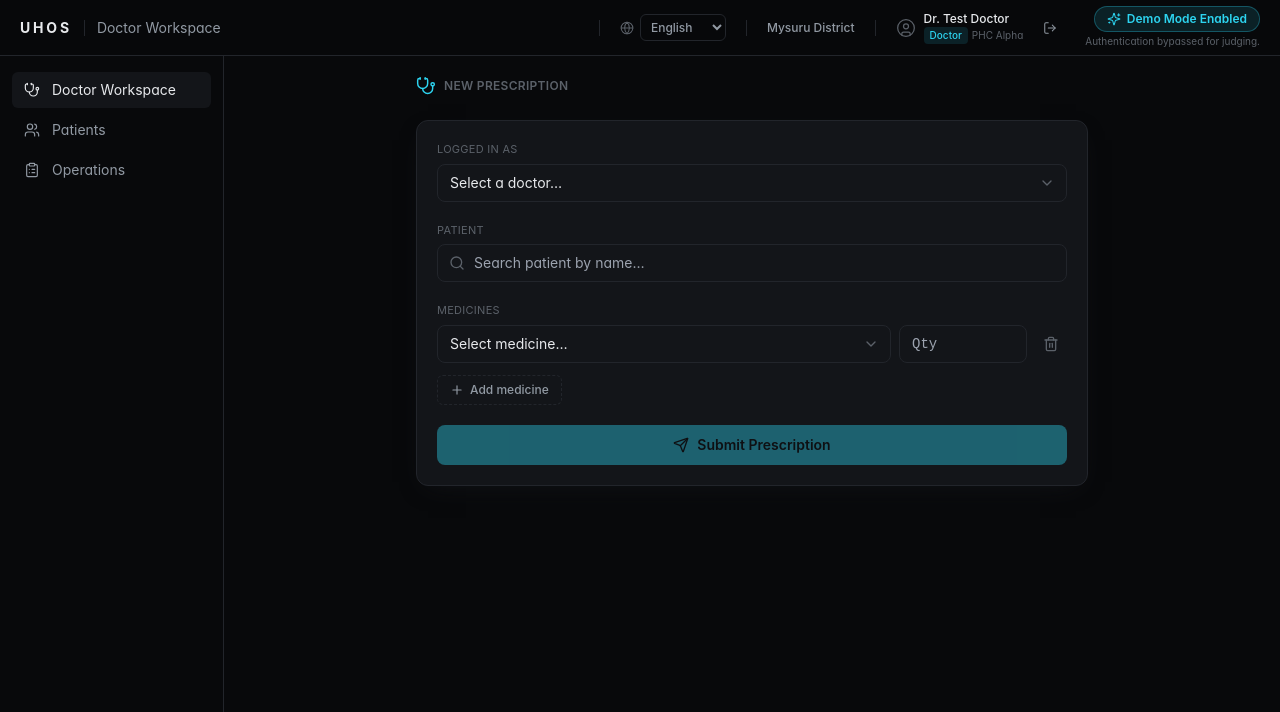
Test case: Doctor Workspace — Smart Referral panel › finds a recommended facility and creates a referral
Step 1. Select "Dr. Rao — General Medicine (PHC Alpha)" in the dropdown "Select a doctor" below "Logged in as" → (752, 182), box [437,164,1067,202]
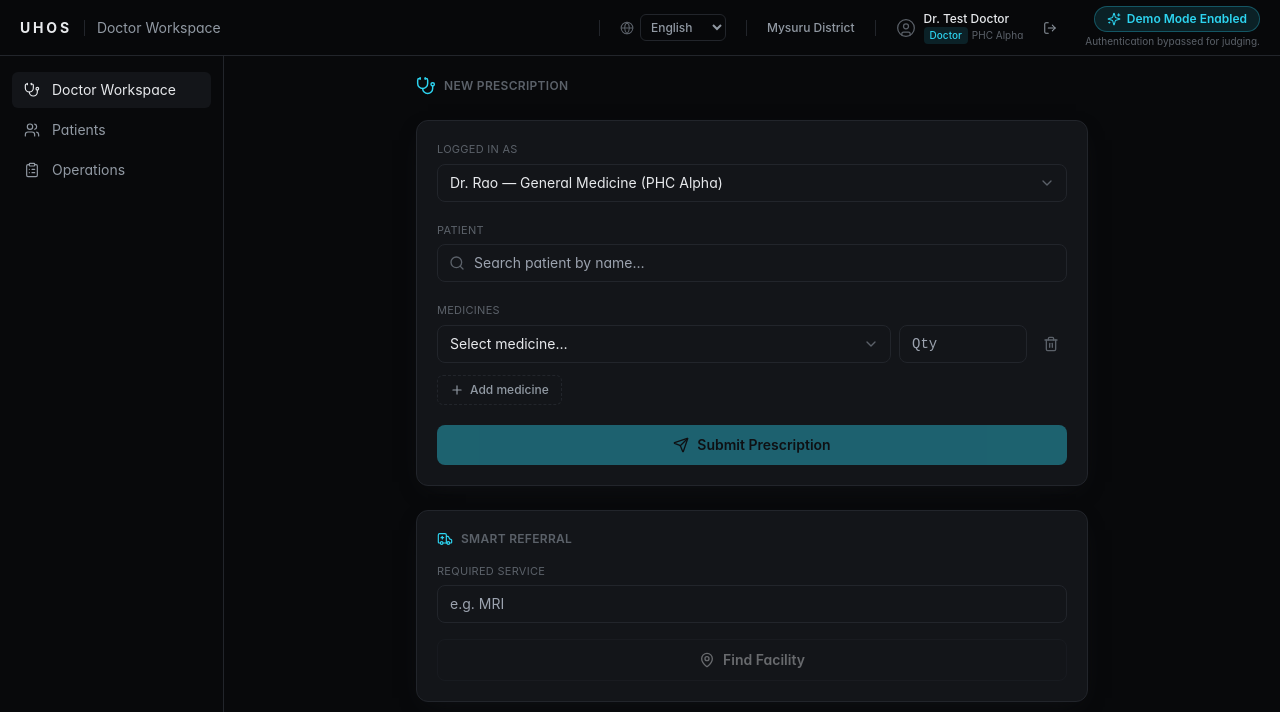
Check: the heading "Smart Referral" is shown, box [461,530,572,546]
Step 2. Type "MRI" into the field with placeholder "e.g. MRI" → (752, 604), box [437,585,1067,623]
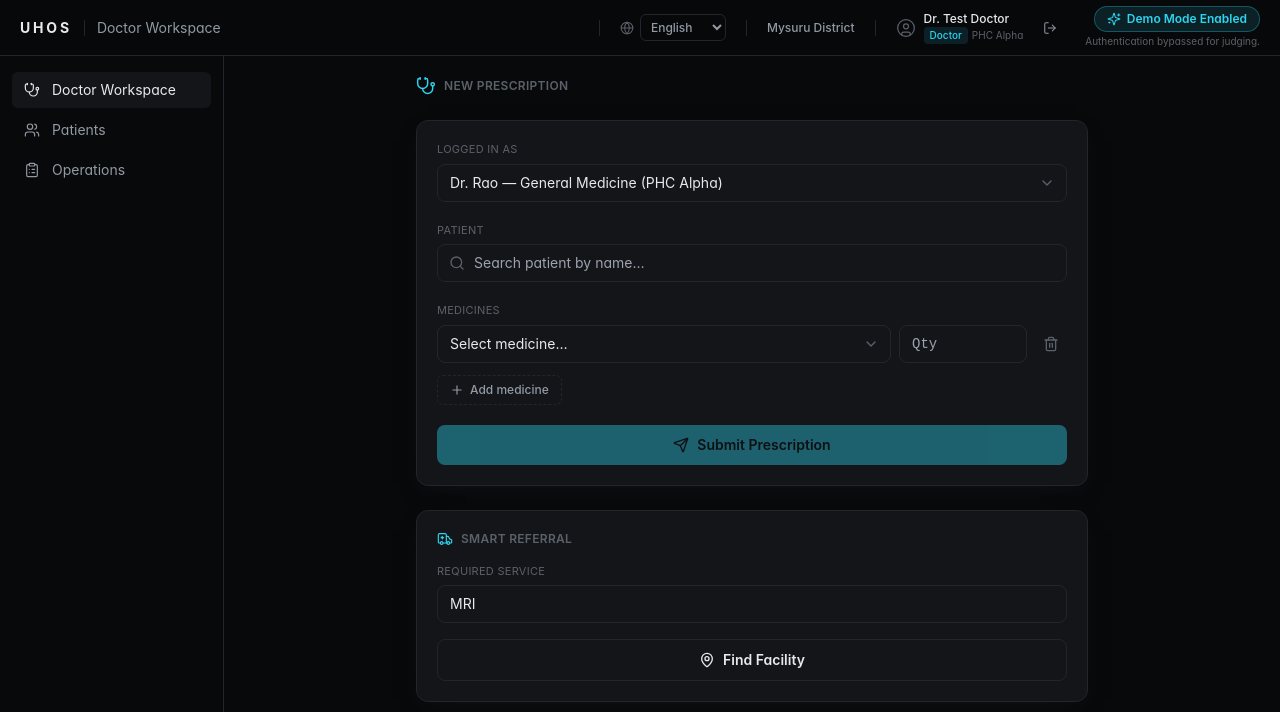
Step 3. Click the button "Find Facility" → (752, 660), box [437,639,1067,681]
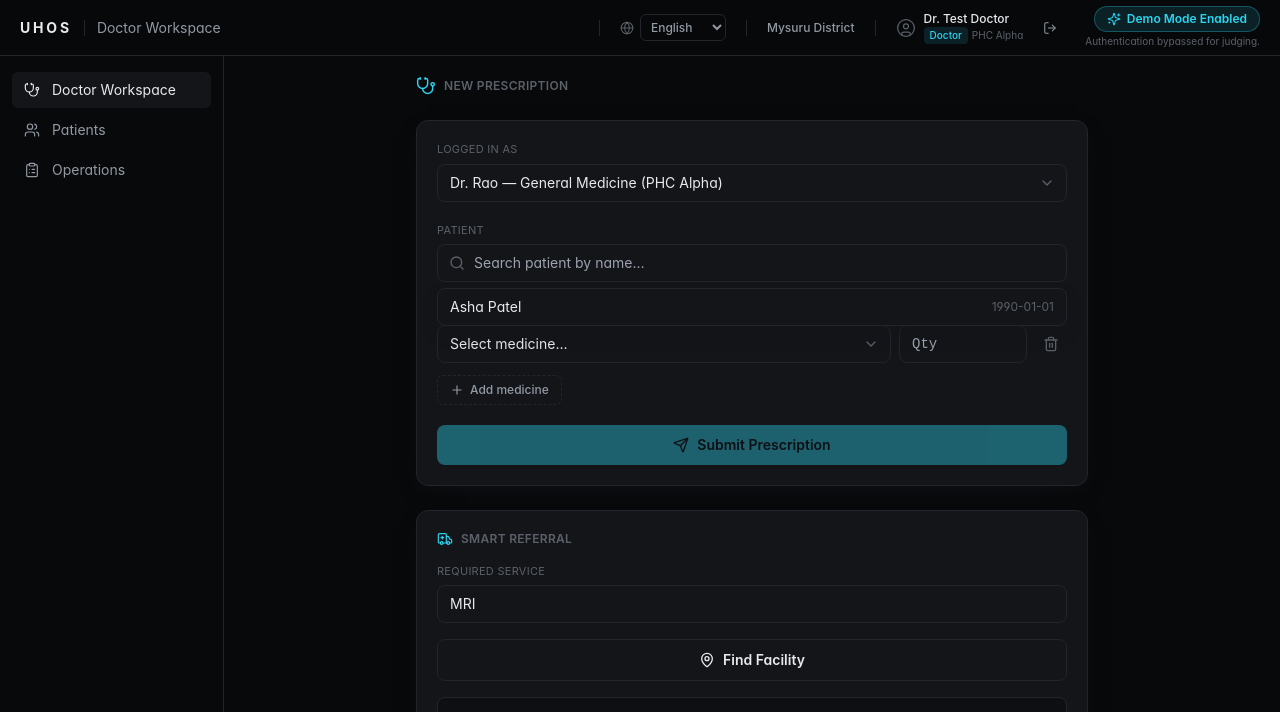
Step 4. Type "Asha" into the field with placeholder "Search patient by name…" → (752, 263), box [437,244,1067,282]
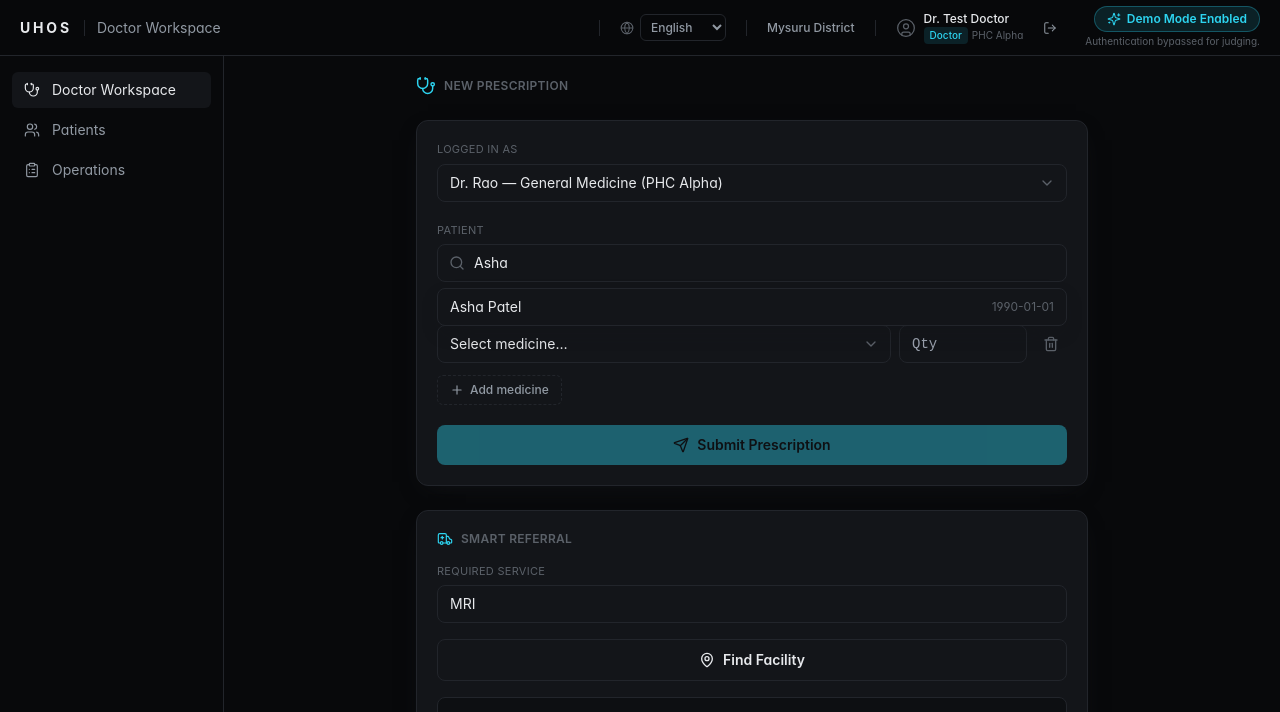
Check: the text "Asha Patel" is shown
Step 5. Click the text "Asha Patel" → (486, 307), box [450,297,521,317]
(page scrolled)
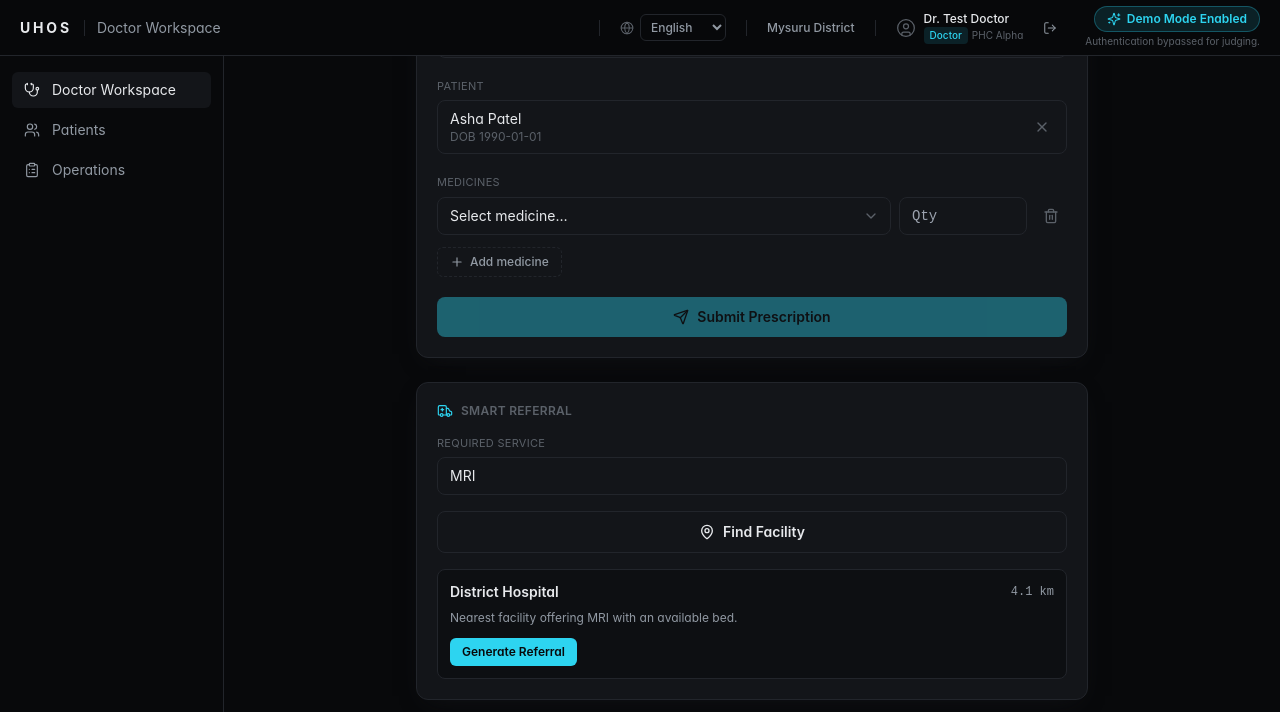
Step 6. Click the button "Generate Referral" → (514, 652), box [450,638,577,666]
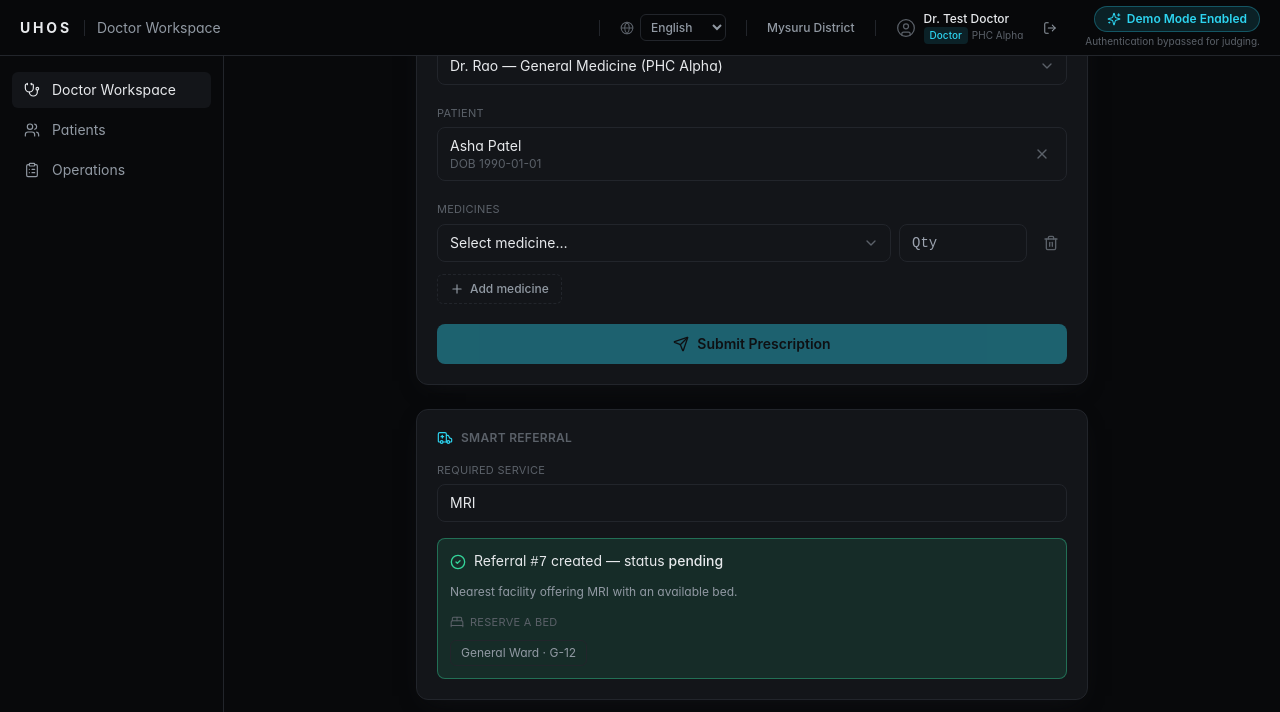
Check: the text "#7" is shown, box [530,554,547,570]
